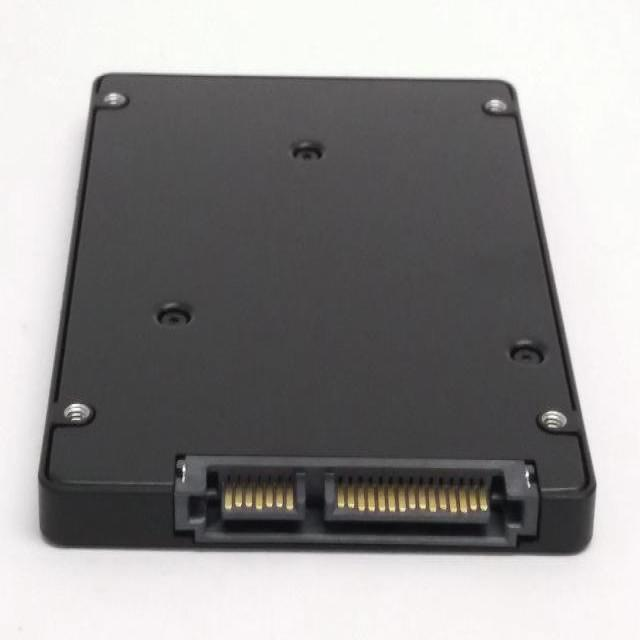DISK: (36, 71, 598, 558)
